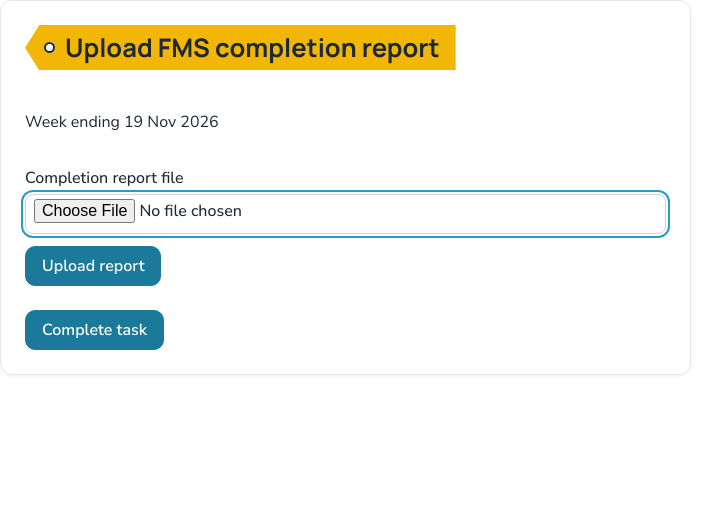
Test case: UploadCompletionReport › BPA59_theResultShowsEveryRowWithItsOutcome
Earlier steps of the test are not shown.
Check: the text "Week ending 19 Nov 2026" is shown, box [25,111,219,133]
Click the button "Upload report" at [93, 266], box [25,246,162,286]
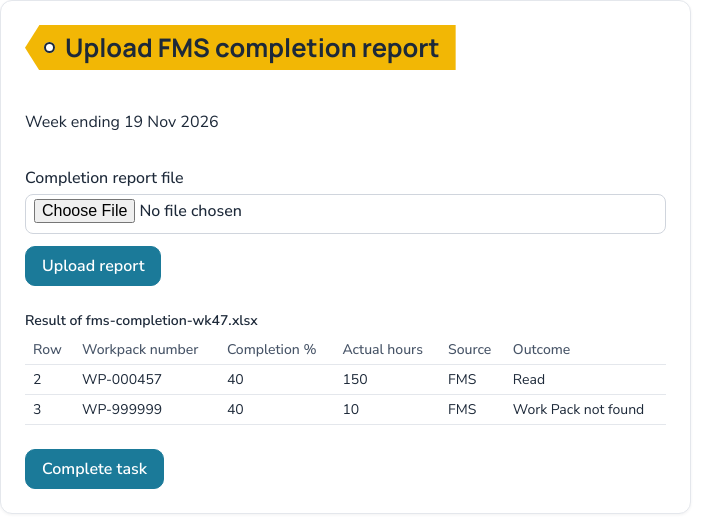
Check: the text "WP-000457" is shown, box [74,365,219,395]
Check: the text "Read" is shown, box [505,365,666,395]
Check: the text "Work Pack not found" is shown, box [505,395,666,425]
